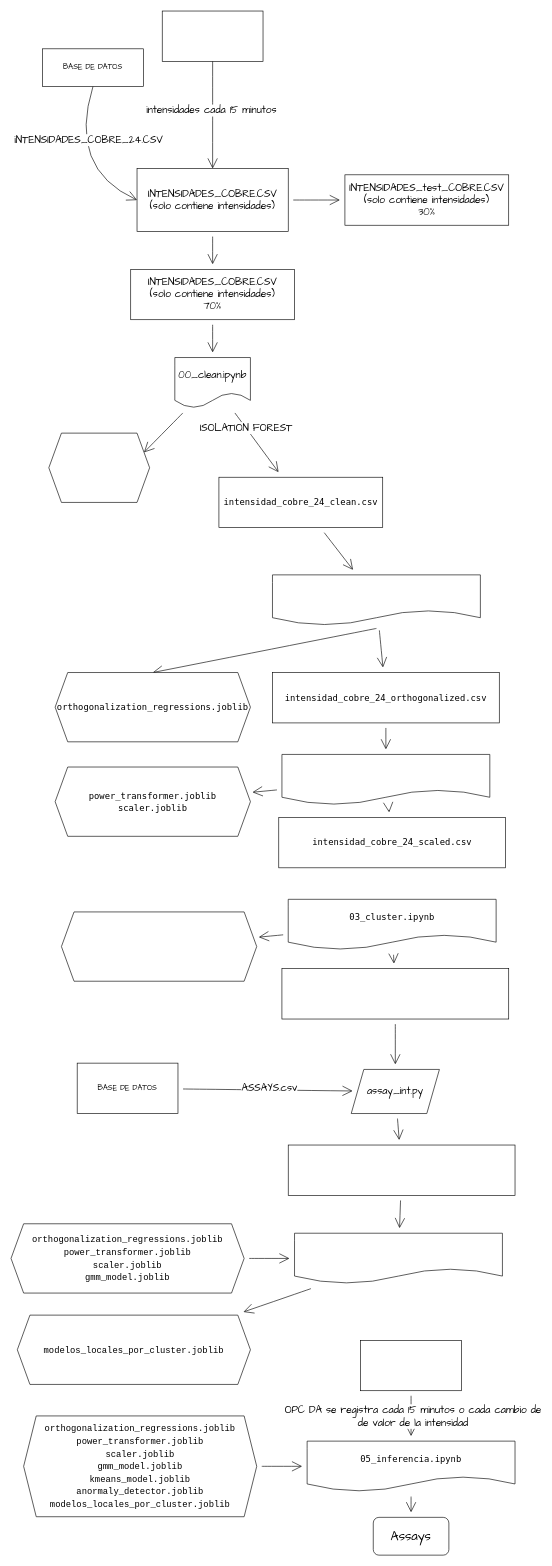
Some shapes in this 552 by 1566 pixel diagram are drawn without their labels. Each missing label, with the centre of its shape:
"01_ortogonalizacion.ipynb" goes at [376,599].
"02_scaled.ipynb" goes at [385,779].
"04_modelos_locales.ipynb" goes at [398,1258].
"anomaly_detector.joblis" goes at [99,467].
"gmm_model.joblib kmeans_model.joblib" goes at [159,946].
"HISTORIADOR" goes at [212,35].
"HISTORIADOR/ DCS" goes at [410,1365].
"intensidad_cobre_24_clusterizado.csv" goes at [395,993].
"intensidad_cobre_24_completo_filtrado.csv" goes at [401,1169].
